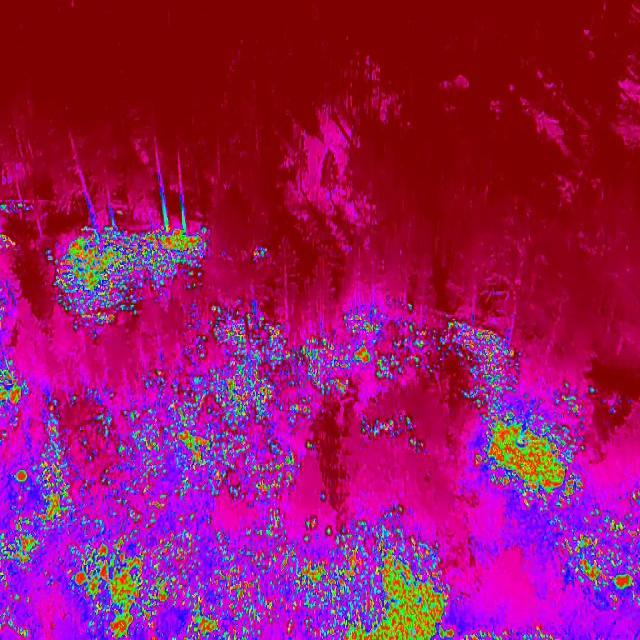fire: (0, 360, 297, 640), (197, 294, 526, 394), (44, 206, 216, 332), (298, 502, 447, 640), (459, 378, 594, 517), (541, 492, 640, 614), (352, 413, 427, 458), (447, 622, 563, 640)
